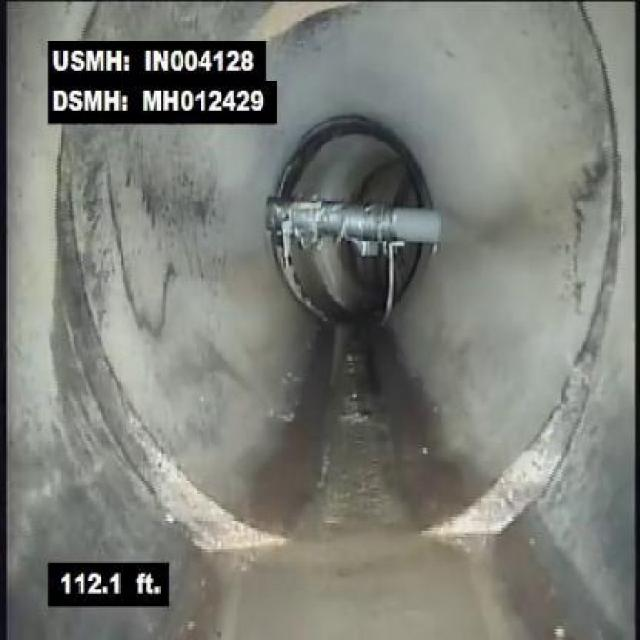Joint offset: (86, 397, 288, 554), (422, 372, 598, 537), (54, 158, 129, 392), (566, 145, 628, 366)
